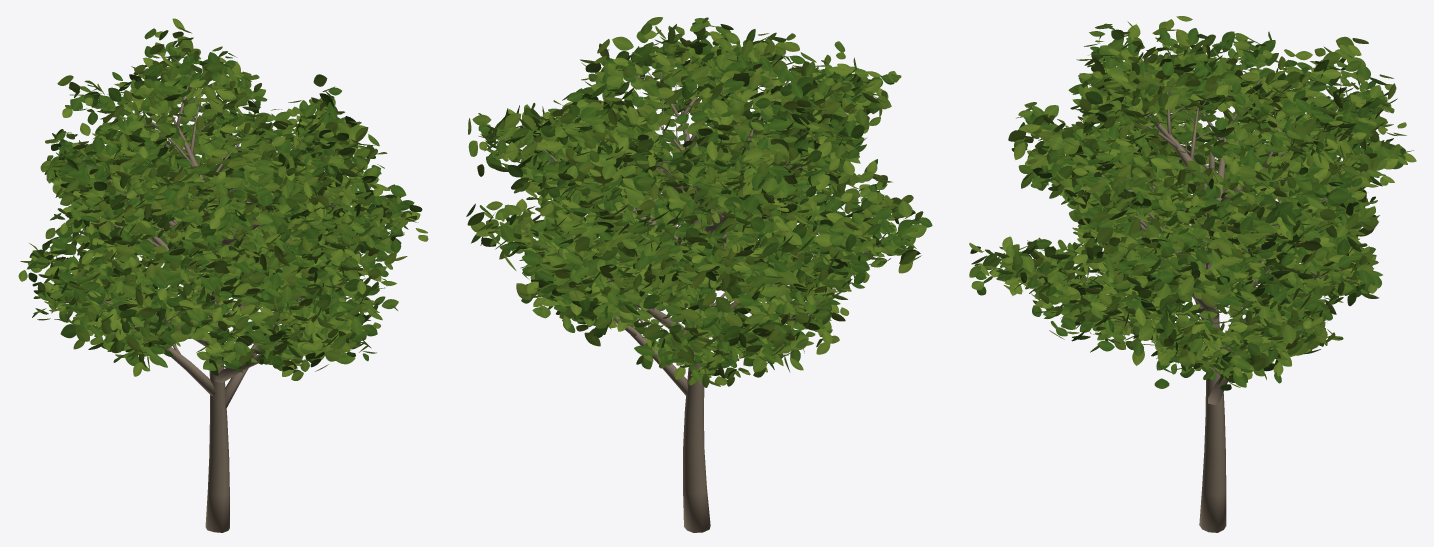
The model's file is tree.glb.
3 views of the same model, side by side, from view 1: azimuth 30°, elevation 25°; view 2: azimuth 150°, elevation 25°; view 3: azimuth 270°, elevation 25° (orthographic). The views are drawn at different scales.
Visible parts, largest first — view 1: tree-leaf-LOD0, tree-bark-LOD0; view 2: tree-leaf-LOD0, tree-bark-LOD0; view 3: tree-leaf-LOD0, tree-bark-LOD0.
Boxes of the visible parts, x1,y1,x2,y2 form: tree-leaf-LOD0: [18, 18, 428, 380]; tree-bark-LOD0: [50, 51, 387, 532]; tree-leaf-LOD0: [466, 17, 932, 387]; tree-bark-LOD0: [496, 68, 892, 532]; tree-leaf-LOD0: [969, 16, 1416, 390]; tree-bark-LOD0: [999, 50, 1343, 532].
Size of the model in its own units: 9.11 by 9.69 by 8.59.
2 materials, 1 textured.
